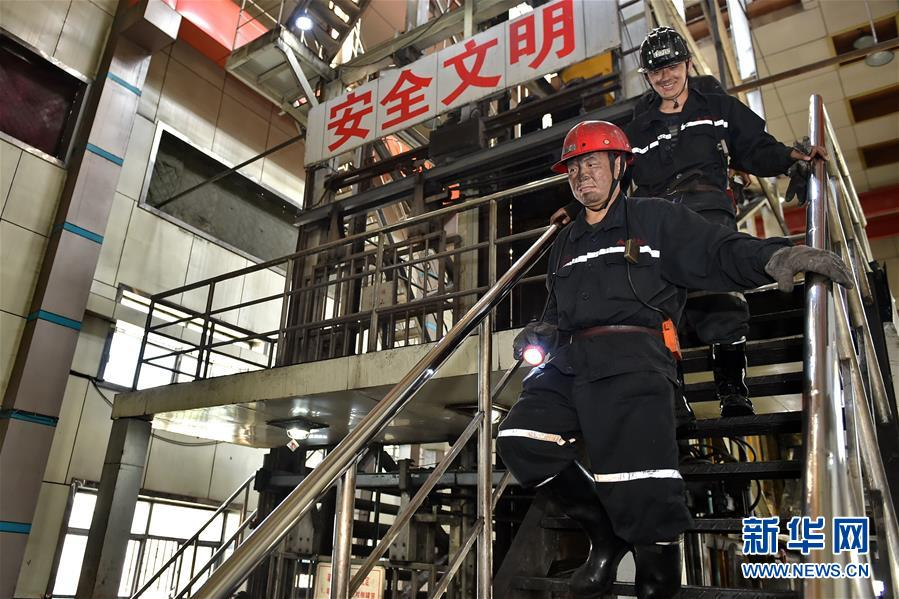helmet: (550, 117, 641, 210), (628, 28, 710, 110)
